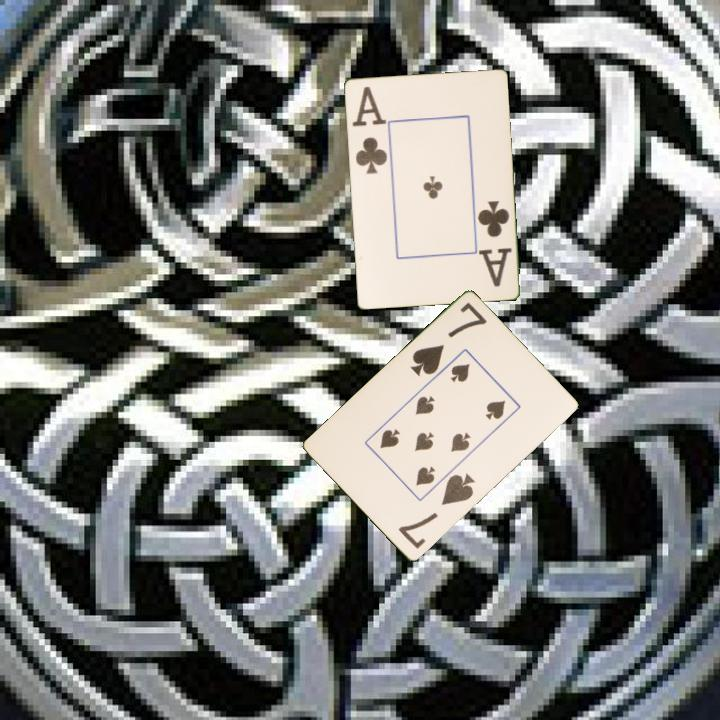7s: (394, 470, 478, 552), (407, 299, 490, 379)
Ac: (348, 83, 389, 177), (474, 197, 514, 289)
